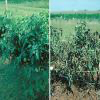Tomato leaf bacterial spot: (35, 50, 40, 62), (28, 68, 33, 79), (22, 38, 26, 50), (30, 30, 35, 38), (17, 55, 21, 64)
